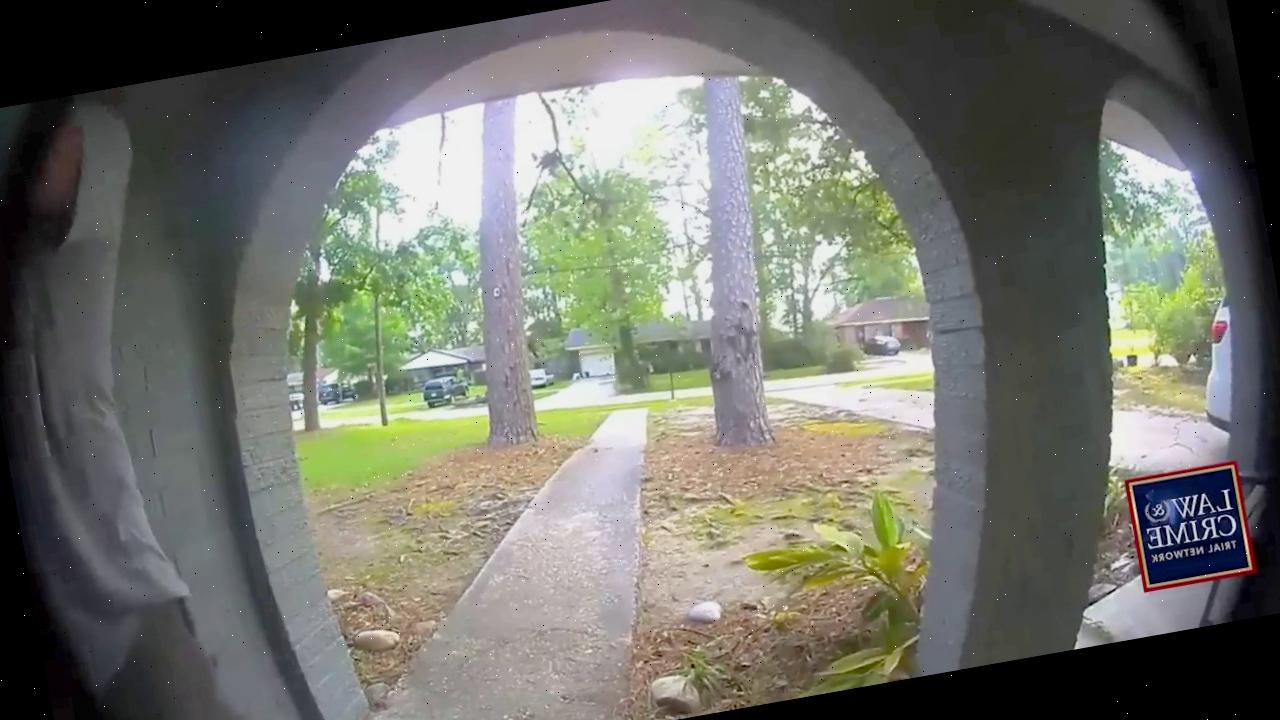suspicion: (0, 80, 277, 720)
